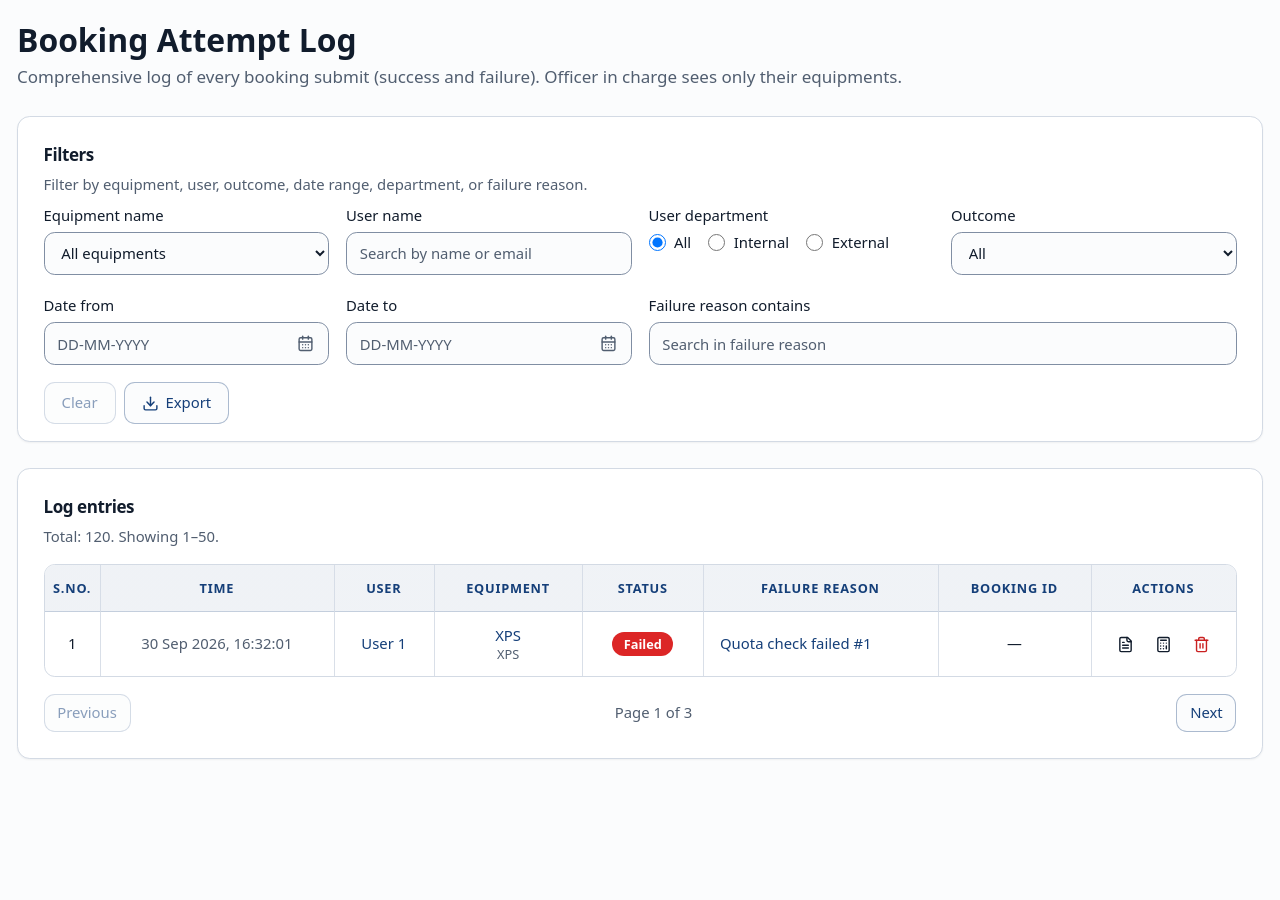
Scenario: Booking Attempt Log live filters › does not fetch while the date range is out of order and explains why
This screenshot has width=1280, height=900.
Expected: the button "Quota check failed #1" is shown, [720, 633, 921, 655]
Step 1. Type "01-10-2026" into the field labelled "Date to" → (489, 344), box [346, 322, 632, 365]
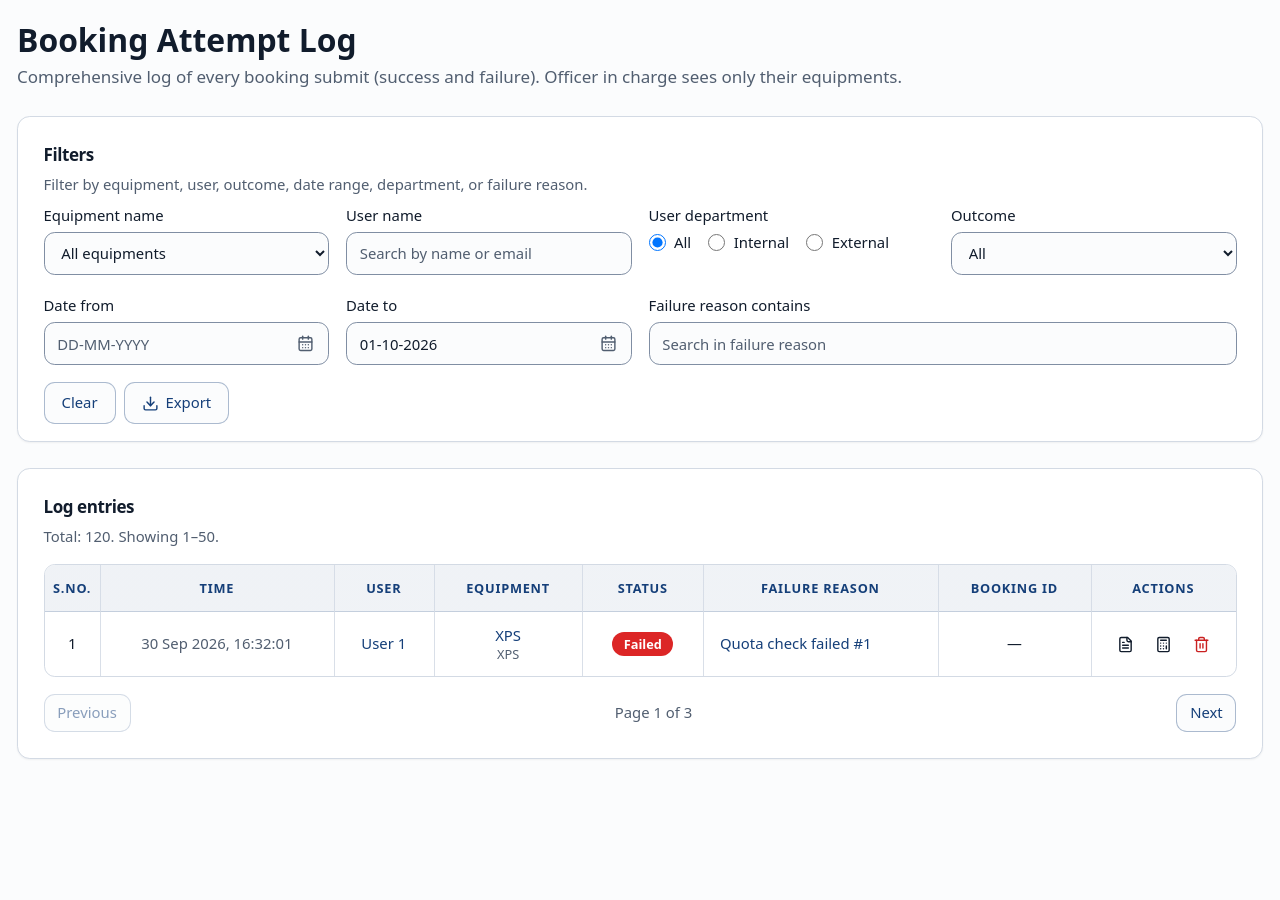
Step 2. Type "05-10-2026" into the field labelled "Date from" → (186, 344), box [44, 322, 329, 365]
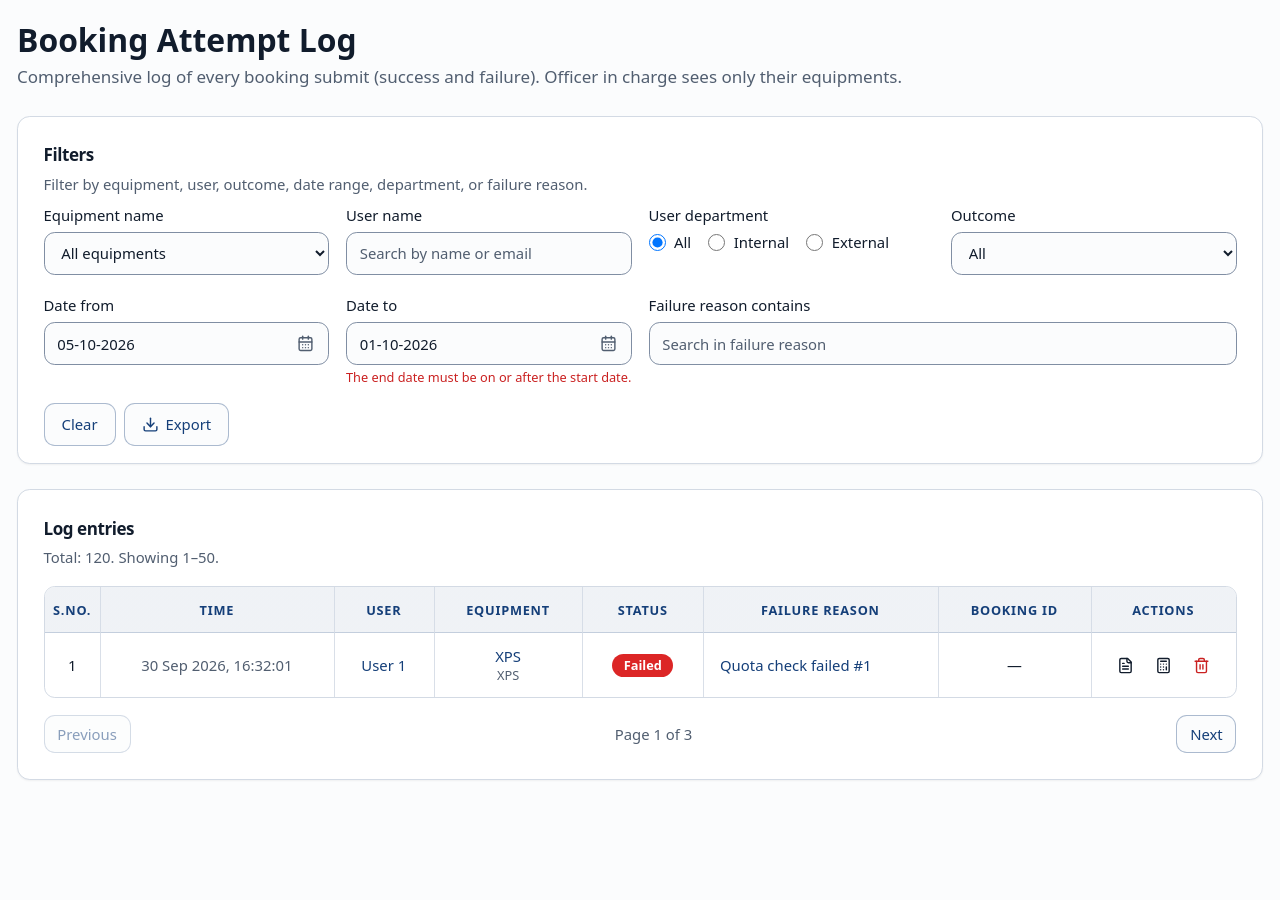
Expected: the message shows "end date must be on or after", [346, 368, 631, 386]
Step 3. Replace the text in the field labelled "Date from" with "05-10-20" → (186, 344), box [44, 322, 329, 365]
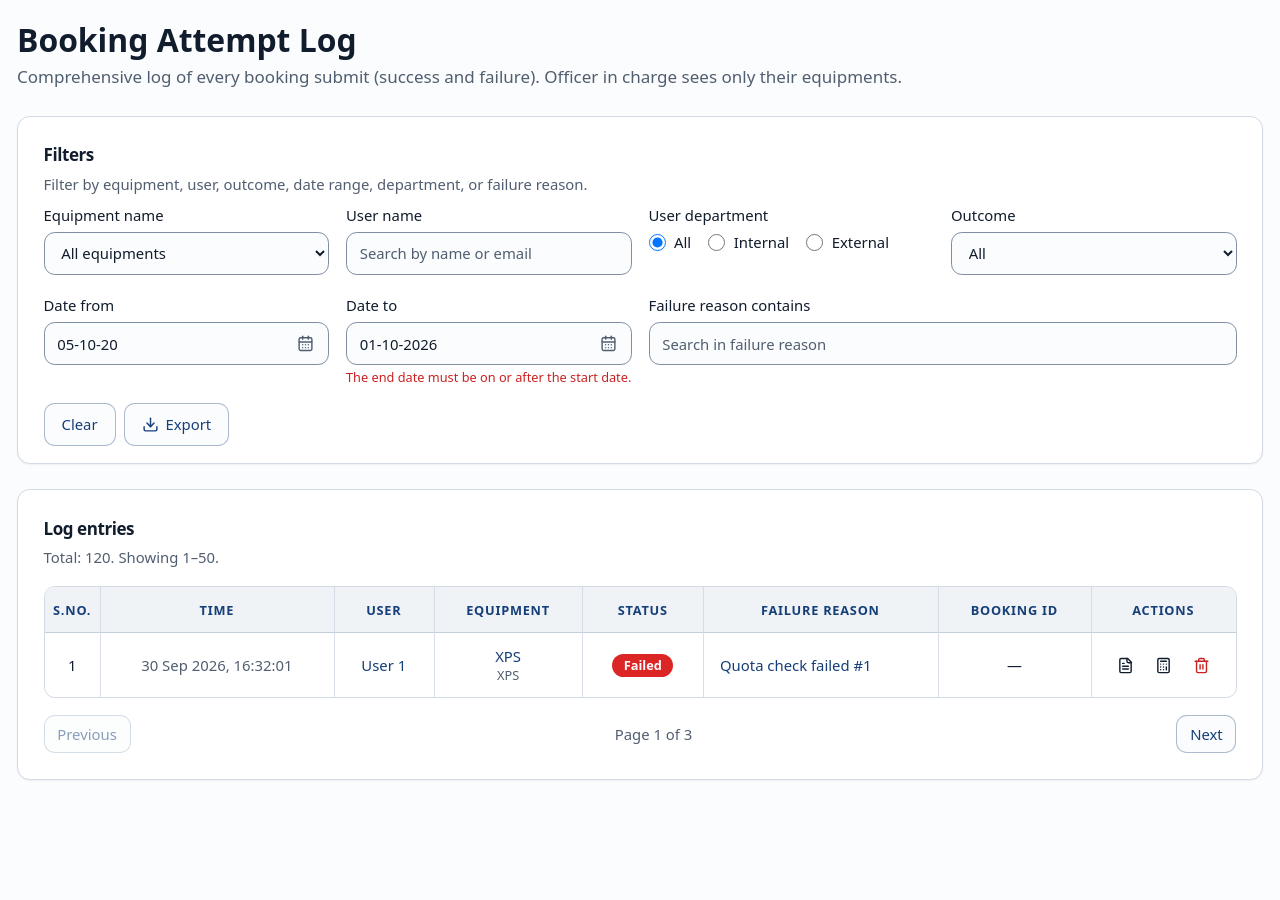
Step 4. Replace the text in the field labelled "Date from" with "01-09-2026" → (186, 344), box [44, 322, 329, 365]
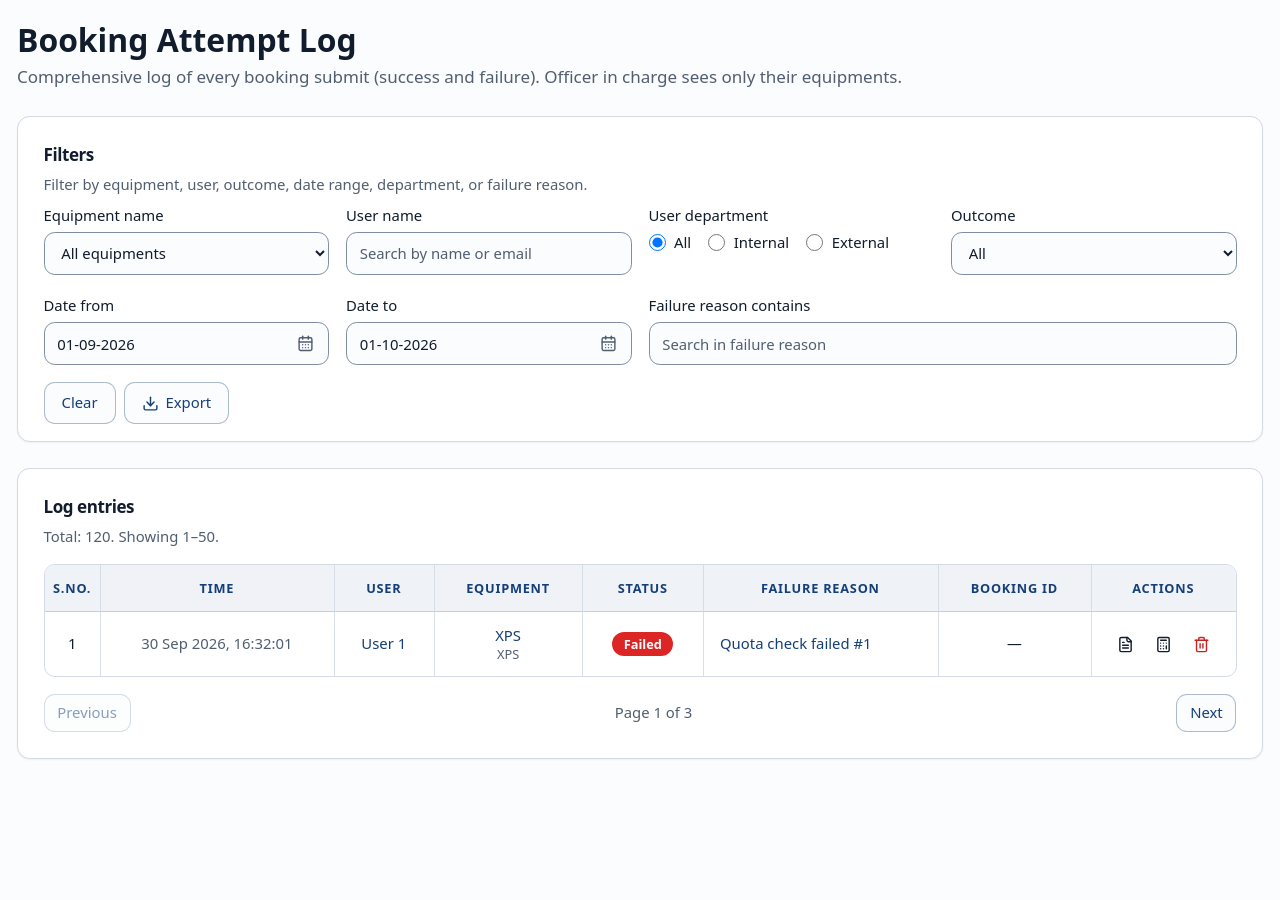
Expected: the message "The end date must be on or after the start date." is gone
